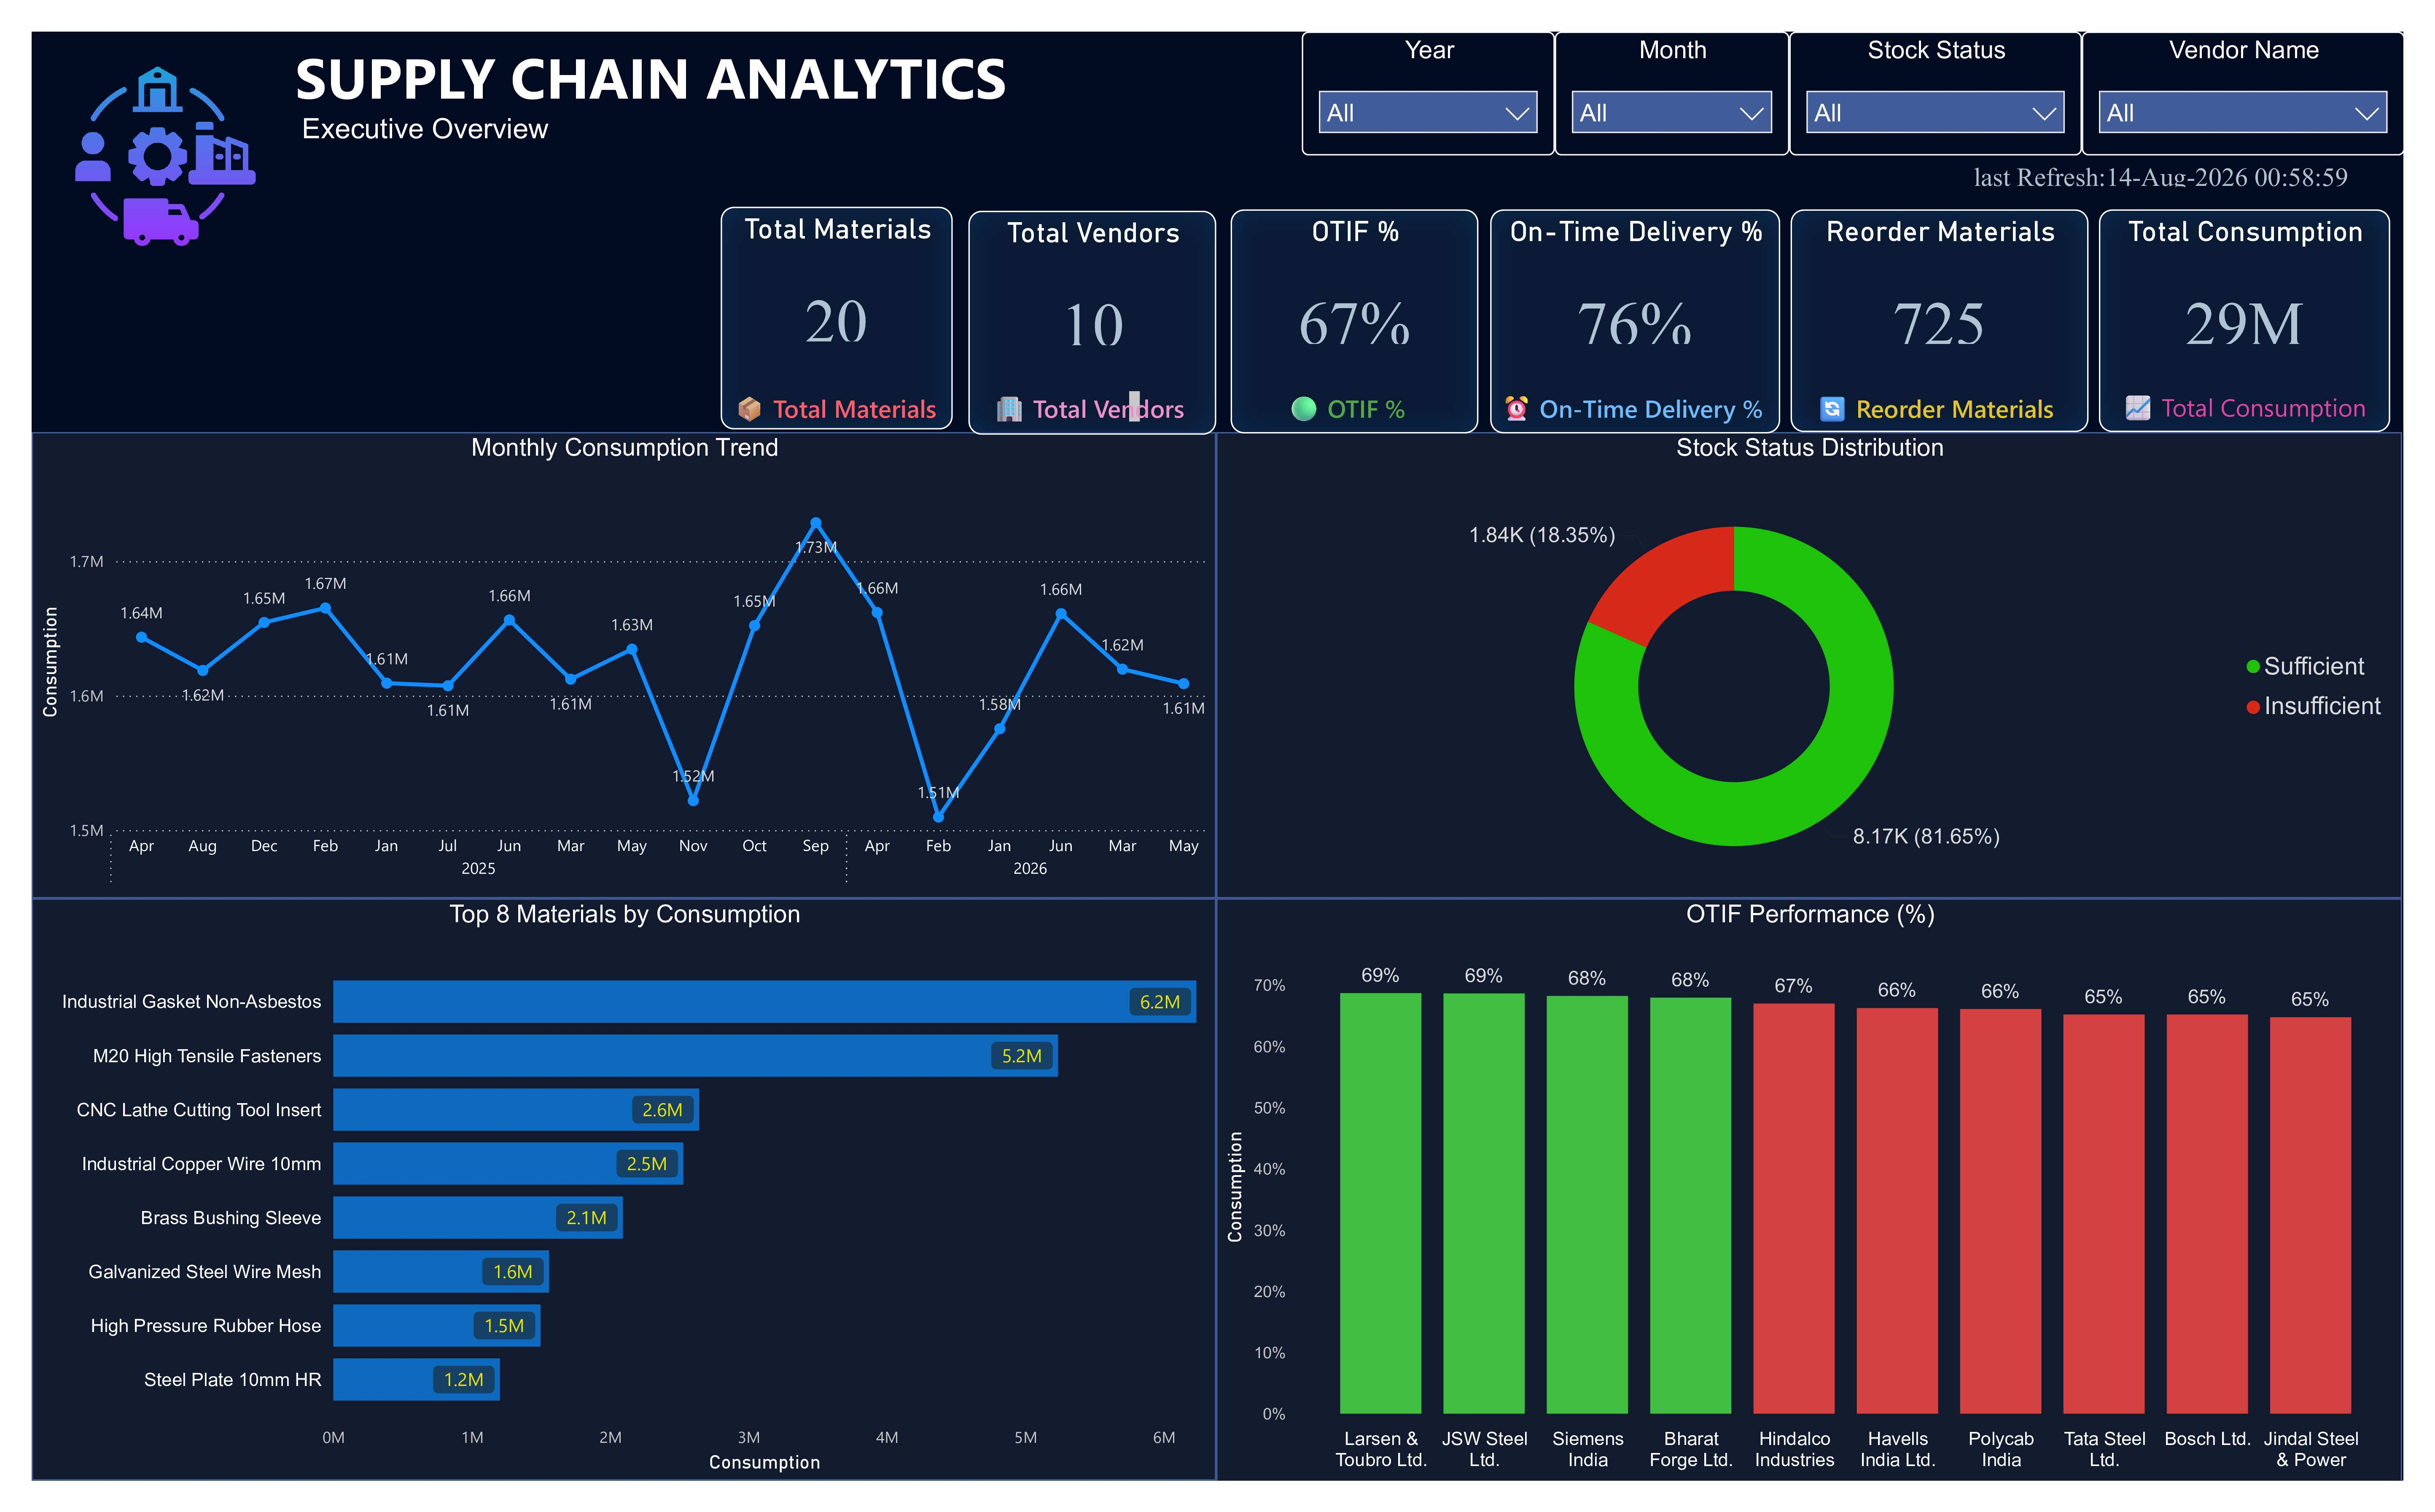

What the dashboard file says about the page in this screenshot:
{"tool":"powerbi","page":{"name":"SCA","canvas":[1800,1100],"ordinal":0},"visuals":[{"type":"textbox","box":[195.4,0,578.8,103.2],"z":0},{"type":"slicer","title":"Vendor Name","fields":{"Values":["Vendor_Delivery_and_OTIF_Analysis.vendor_name"]},"box":[1555.6,0,245.1,94],"z":1000},{"type":"slicer","title":"Year","fields":{"Values":["Inventory_and_Demand_Forecasting.Inv_Year"]},"box":[964,0,191.7,94],"z":2000},{"type":"slicer","title":"Month","fields":{"Values":["Inventory_and_Demand_Forecasting.Inv_Month"]},"box":[1155.7,0,178.8,94],"z":3000},{"type":"slicer","title":"Stock Status","fields":{"Values":["Inventory_and_Demand_Forecasting.stock_status"]},"box":[1334.5,0,221.2,94],"z":4000},{"type":"lineChart","title":"Monthly Consumption Trend","fields":{"Y":["Sum(Inventory_and_Demand_Forecasting.actual_consumption_qty)"],"Category":["Inventory_and_Demand_Forecasting.Inv_Year","Inventory_and_Demand_Forecasting.Inv_Month"]},"box":[0,304.1,899.5,353.9],"z":5000},{"type":"donutChart","title":"Stock Status Distribution","fields":{"Category":["Inventory_and_Demand_Forecasting.stock_status"],"Y":["CountNonNull(Inventory_and_Demand_Forecasting.material_name)"]},"box":[899.5,304.1,899.5,353.9],"z":6000},{"type":"clusteredBarChart","title":"Top 8 Materials by Consumption","fields":{"Y":["Sum(Inventory_and_Demand_Forecasting.actual_consumption_qty)"],"Category":["Dim_Material.material_name","Dim_Material.material_code"]},"box":[0,658,899.5,442.4],"z":7000},{"type":"clusteredColumnChart","title":"OTIF Performance (%)","fields":{"Category":["Vendor_Delivery_and_OTIF_Analysis.vendor_name"],"Y":["All_Measueres.OTIF %"]},"box":[899.5,658,900,443.3],"z":8000},{"type":"cardVisual","title":"Total Materials","fields":{"Data":["All_Measueres.last Refresh"]},"box":[1432.1,71.9,368.6,92.2],"z":9000},{"type":"cardVisual","title":"Total Vendors","fields":{"Data":["Count(Vendor_Delivery_and_OTIF_Analysis.vendor_name)"]},"box":[711.5,136.4,188,169.6],"z":10000},{"type":"cardVisual","title":"On-Time Delivery %","fields":{"Data":["All_Measueres.On-Time Delivery %"]},"box":[1107.3,135.5,219.2,169.2],"z":11000},{"type":"cardVisual","title":"Total Consumption","fields":{"Data":["Sum(Inventory_and_Demand_Forecasting.actual_consumption_qty)"]},"box":[1568.5,134.6,221.5,169.2],"z":12000},{"type":"cardVisual","title":"OTIF %","fields":{"Data":["All_Measueres.OTIF %"]},"box":[910,135.5,188.5,169.2],"z":13000},{"type":"cardVisual","title":"Reorder Materials","fields":{"Data":["All_Measueres.Reorder Materials Count"]},"box":[1334.7,134.7,226.2,169.2],"z":14000},{"type":"image","box":[33.2,0,136.4,188],"z":15000},{"type":"cardVisual","title":"Total Materials","fields":{"Data":["Count(Inventory_and_Demand_Forecasting.material_code)"]},"box":[523.5,132.7,175.1,169.6],"z":16000},{"type":"textbox","box":[526.7,267.8,318.9,34.4],"z":17000},{"type":"textbox","box":[947.8,267.8,320,37.8],"z":18000},{"type":"textbox","box":[718.9,267.8,320,37.8],"z":19000},{"type":"textbox","box":[1108.9,267.8,325.6,36.7],"z":20000},{"type":"textbox","box":[1348.9,267.8,325.6,37.8],"z":21000},{"type":"textbox","box":[1581.4,267.3,219.3,60.8],"z":22000}]}

Visuals, with their boxes on the page's 1800x1100 design canvas (x1, y1, x2, y2). These are canvas units, not pixel positions in the 2435x1512 screenshot, which may show the page scaled, cropped or inside an application window:
textbox: rect(195, 0, 774, 103)
"Vendor Name" slicer: rect(1556, 0, 1801, 94)
"Year" slicer: rect(964, 0, 1156, 94)
"Month" slicer: rect(1156, 0, 1334, 94)
"Stock Status" slicer: rect(1334, 0, 1556, 94)
"Monthly Consumption Trend" lineChart: rect(0, 304, 900, 658)
"Stock Status Distribution" donutChart: rect(900, 304, 1799, 658)
"Top 8 Materials by Consumption" clusteredBarChart: rect(0, 658, 900, 1100)
"OTIF Performance (%)" clusteredColumnChart: rect(900, 658, 1800, 1101)
"Total Materials" cardVisual: rect(1432, 72, 1801, 164)
"Total Vendors" cardVisual: rect(712, 136, 900, 306)
"On-Time Delivery %" cardVisual: rect(1107, 136, 1326, 305)
"Total Consumption" cardVisual: rect(1568, 135, 1790, 304)
"OTIF %" cardVisual: rect(910, 136, 1098, 305)
"Reorder Materials" cardVisual: rect(1335, 135, 1561, 304)
image: rect(33, 0, 170, 188)
"Total Materials" cardVisual: rect(524, 133, 699, 302)
textbox: rect(527, 268, 846, 302)
textbox: rect(948, 268, 1268, 306)
textbox: rect(719, 268, 1039, 306)
textbox: rect(1109, 268, 1434, 304)
textbox: rect(1349, 268, 1674, 306)
textbox: rect(1581, 267, 1801, 328)
